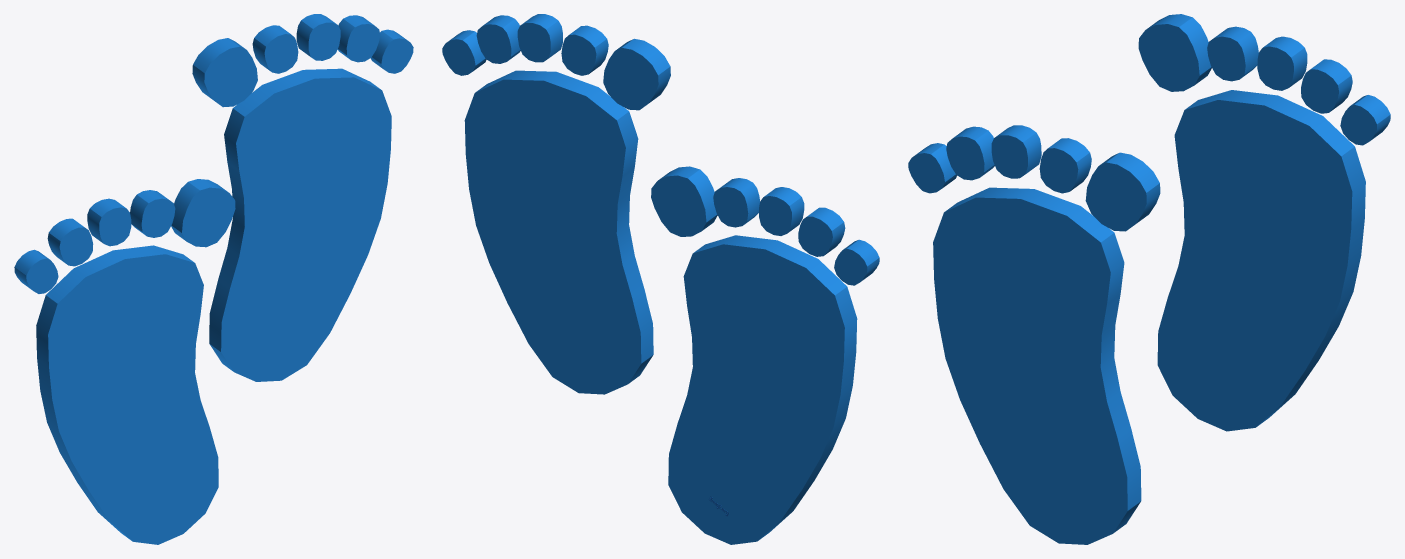
File: footprints.fbx
3 renders of one model, left to right at view 1: azimuth 30°, elevation 25°; view 2: azimuth 150°, elevation 25°; view 3: azimuth 330°, elevation 25°, orthographic. The views are drawn at different scales.
Parts seen in each view (by area): view 1: Plane.099, Plane.098; view 2: Plane.099, Plane.098; view 3: Plane.098, Plane.099.
Boxes of the visible parts, box(x1,y1,x2,y2) form: Plane.099: box(192, 14, 413, 381); Plane.098: box(14, 179, 235, 544); Plane.099: box(442, 14, 670, 394); Plane.098: box(651, 166, 879, 544); Plane.098: box(908, 125, 1160, 544); Plane.099: box(1138, 14, 1390, 431).
Size of the model in its own units: 182 by 204 by 18.82.
1 material, 1 textured.
